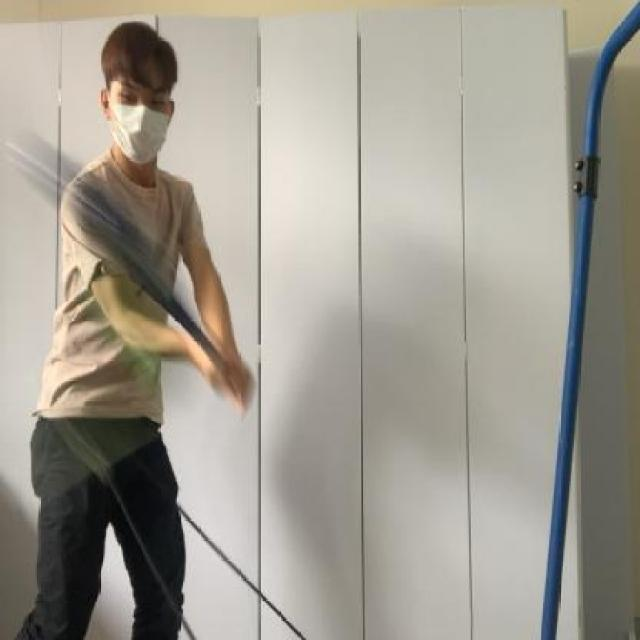baseball: (82, 274, 178, 406)
